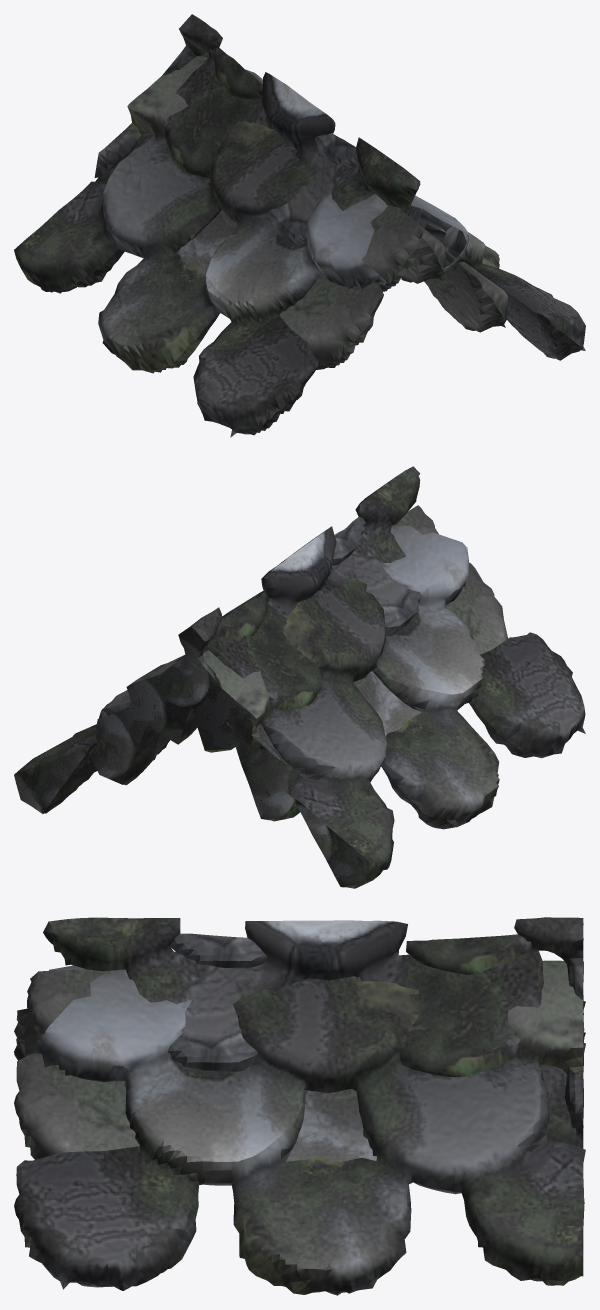
Rendered from SM_Roof_Cap_07.fbx.
3 renders of one model, top to bottom at view 1: azimuth 30°, elevation 25°; view 2: azimuth 150°, elevation 25°; view 3: azimuth 270°, elevation 25°, orthographic. The views are drawn at different scales.
Visible parts, largest first — view 1: SM_Roof_Cap_07_LOD0; view 2: SM_Roof_Cap_07_LOD0; view 3: SM_Roof_Cap_07_LOD0.
Boxes of the visible parts, <box> form: SM_Roof_Cap_07_LOD0: <box>14,14,585,437</box>; SM_Roof_Cap_07_LOD0: <box>14,466,585,888</box>; SM_Roof_Cap_07_LOD0: <box>14,917,585,1295</box>.
Bounding box in the file's own units: 89.68 × 97.69 × 53.45.
